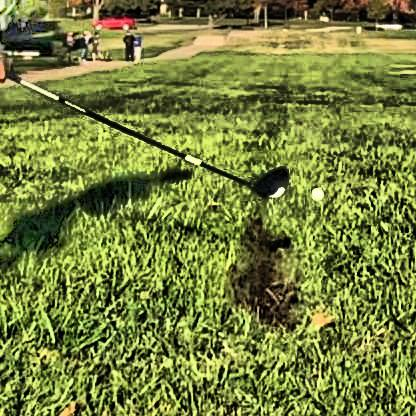golfball: (307, 183, 321, 197)
